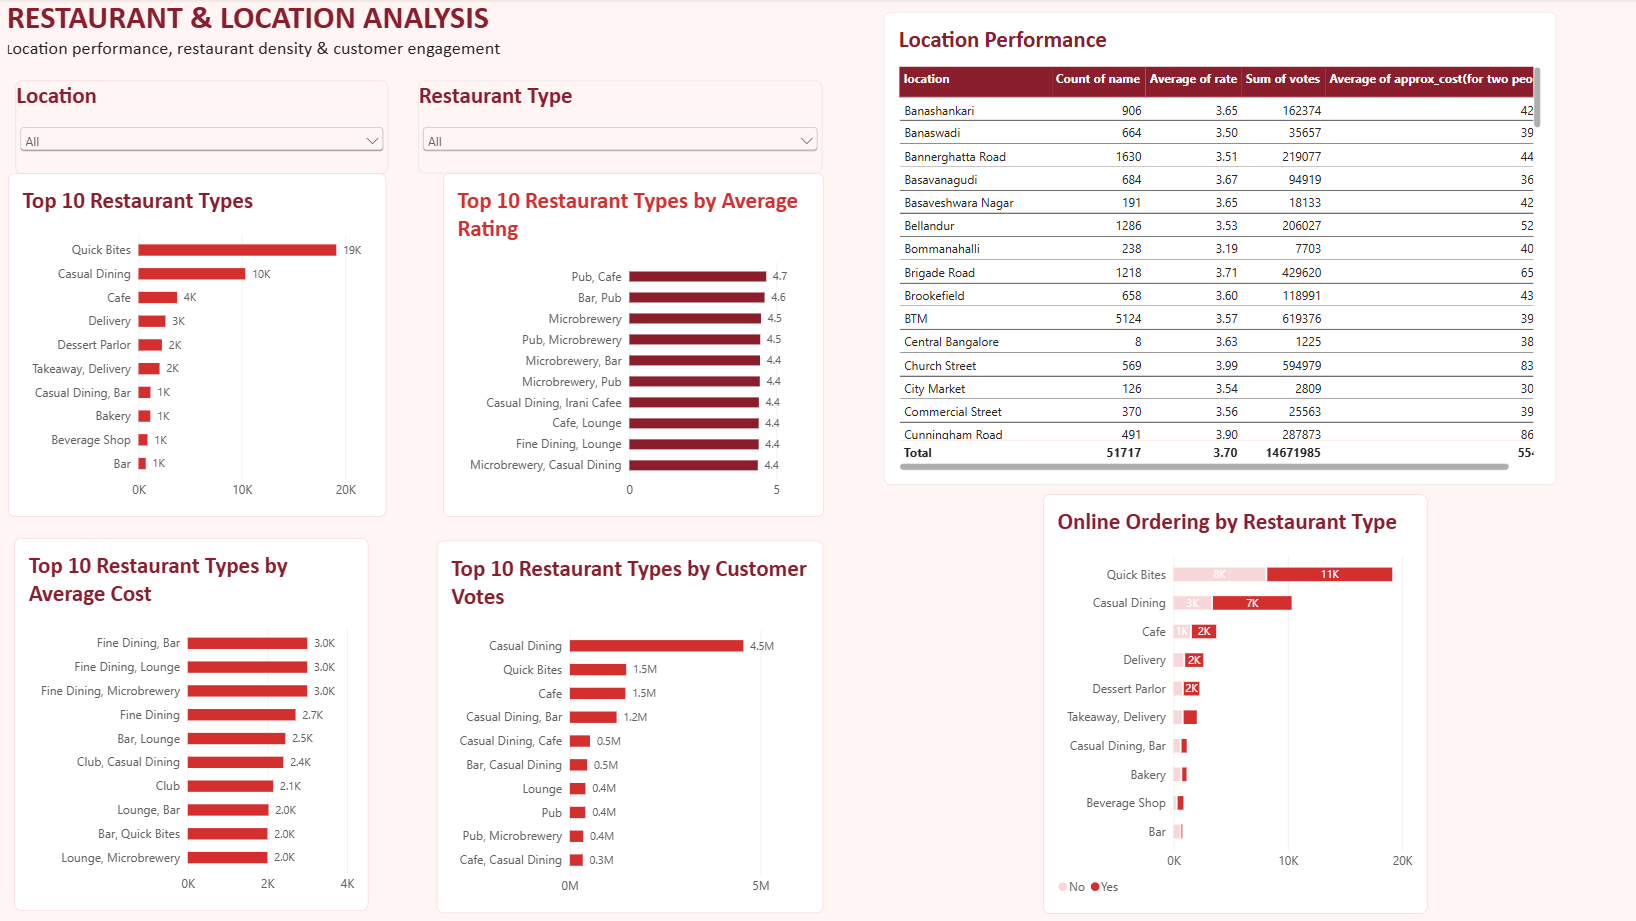

Layout of this report page (visuals, bound fields, positions):
{"tool":"powerbi","page":{"name":"Restaurant & Location Analysis","canvas":[1920,1080],"ordinal":1},"visuals":[{"type":"textbox","box":[10.3,0,593.1,279.3],"z":0},{"type":"clusteredBarChart","title":"Top 10 Restaurant Types","fields":{"Category":["zomato_cleaned.rest_type"],"Y":["CountNonNull(zomato_cleaned.name)"]},"box":[12.3,203.1,440,400],"z":1000},{"type":"clusteredBarChart","title":"Top 10 Restaurant Types by Average Rating","fields":{"Category":["zomato_cleaned.rest_type"],"Y":["Avg(zomato_cleaned.rate)"]},"box":[516.9,203.1,443.1,400],"z":2000},{"type":"clusteredBarChart","title":"Top 10 Restaurant Types by Average Cost","fields":{"Category":["zomato_cleaned.rest_type"],"Y":["Avg(zomato_cleaned.approx_cost(for two people))"]},"box":[18.5,627.7,412.3,433.8],"z":3000},{"type":"clusteredBarChart","title":"Top 10 Restaurant Types by Customer Votes","fields":{"Category":["zomato_cleaned.rest_type"],"Y":["Sum(zomato_cleaned.votes)"]},"box":[510.8,630.8,449.2,433.8],"z":4000},{"type":"barChart","title":"Online Ordering by Restaurant Type","fields":{"Category":["zomato_cleaned.rest_type"],"Series":["zomato_cleaned.online_order"],"Y":["CountNonNull(zomato_cleaned.name)"]},"box":[1215.9,576.8,447,488],"z":5000},{"type":"tableEx","title":"Location Performance","fields":{"Values":["zomato_cleaned.location","zomato_cleaned.name","Avg(zomato_cleaned.rate)","Sum(zomato_cleaned.votes)","Avg(zomato_cleaned.approx_cost(for two people))"]},"box":[1030.4,15.6,781.5,550.8],"z":6000},{"type":"slicer","title":"Restaurant Type ","fields":{"Values":["zomato_cleaned.rest_type"]},"box":[489.2,95.4,470.8,107.7],"z":6001},{"type":"slicer","title":"Location","fields":{"Values":["zomato_cleaned.location"]},"box":[20.1,96.4,433.8,108.5],"z":6002}]}

Visuals, with their boxes in screenshot pixels (x1, y1, x2, y2), scaled from the page's 1920x1080 canvas onto the 1636x921 screenshot:
textbox: <bbox>9, 0, 514, 238</bbox>
"Top 10 Restaurant Types" clusteredBarChart: <bbox>10, 173, 385, 514</bbox>
"Top 10 Restaurant Types by Average Rating" clusteredBarChart: <bbox>440, 173, 818, 514</bbox>
"Top 10 Restaurant Types by Average Cost" clusteredBarChart: <bbox>16, 535, 367, 905</bbox>
"Top 10 Restaurant Types by Customer Votes" clusteredBarChart: <bbox>435, 538, 818, 908</bbox>
"Online Ordering by Restaurant Type" barChart: <bbox>1036, 492, 1417, 908</bbox>
"Location Performance" tableEx: <bbox>878, 13, 1544, 483</bbox>
"Restaurant Type " slicer: <bbox>417, 81, 818, 173</bbox>
"Location" slicer: <bbox>17, 82, 387, 175</bbox>
